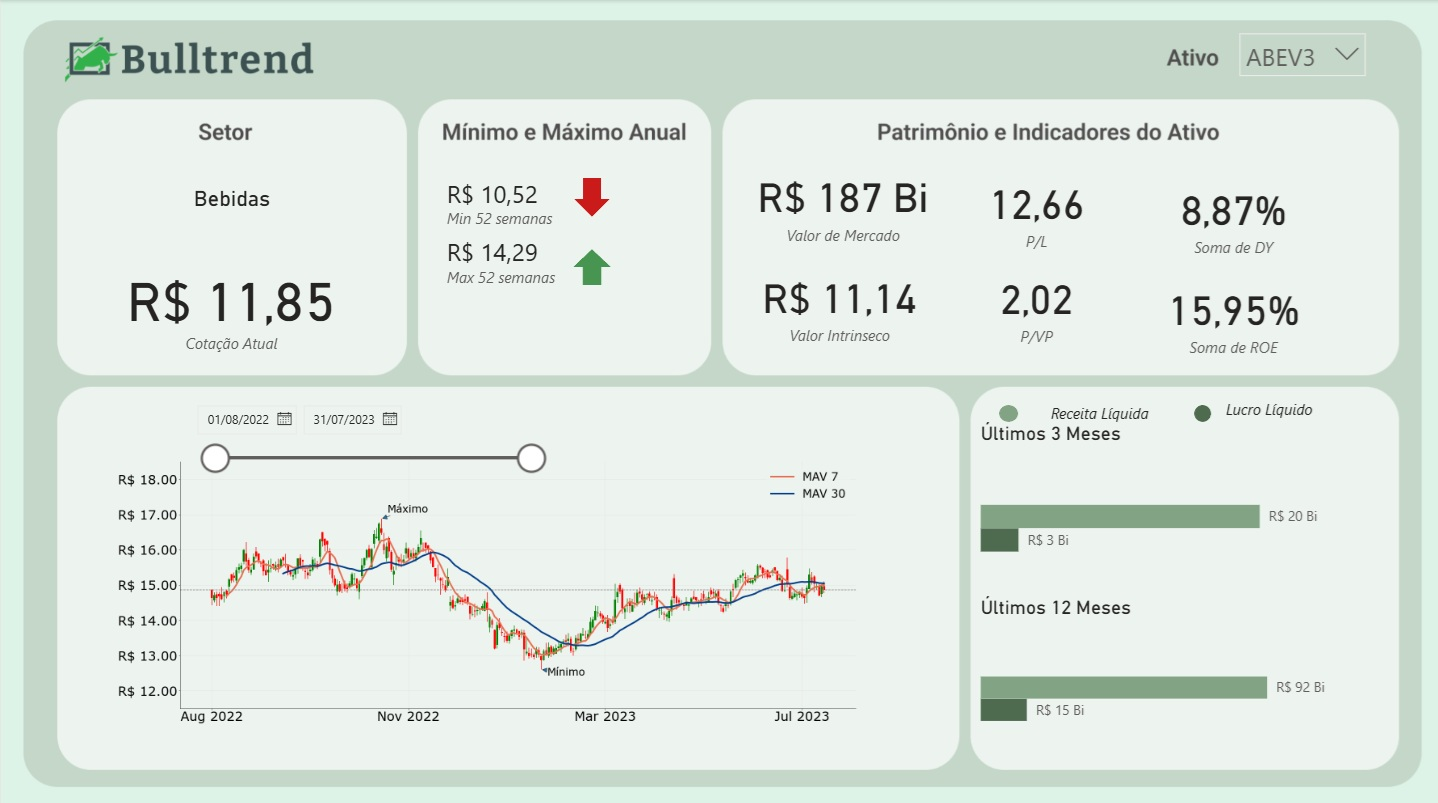

What the dashboard file says about the page in this screenshot:
{"tool":"powerbi","page":{"name":"Página 1","canvas":[1280,720],"ordinal":1},"visuals":[{"type":"slicer","fields":{"Values":["indicadores.Ativo"]},"box":[0,0,243.9,68.9],"z":0},{"type":"card","fields":{"Values":["Min(indicadores.Setor)"]},"box":[243.9,3,831.5,106.8],"z":1000},{"type":"card","fields":{"Values":["Sum(indicadores.Cotacao)"]},"box":[0,109.9,243.9,150.2],"z":2000},{"type":"multiRowCard","fields":{"Values":["indicadores.Min_52_sem","indicadores.Max_52_sem"]},"box":[0,260,343.7,56.4],"z":3000},{"type":"card","fields":{"Values":["Sum(indicadores.Valor_de_mercado)"]},"box":[0,359.8,343.7,149.2],"z":4000},{"type":"card","fields":{"Values":["Sum(indicadores.Valor_Intrinseco)"]},"box":[0,530,344,150],"z":5000},{"type":"card","fields":{"Values":["Sum(indicadores.P/L)"]},"box":[343.7,109.9,316.5,150.2],"z":6000},{"type":"card","fields":{"Values":["Sum(indicadores.P/VP)"]},"box":[343.7,260,316.5,150.2],"z":7000},{"type":"card","fields":{"Values":["Sum(indicadores.DY)"]},"box":[353.8,410.2,296.3,150.2],"z":8000},{"type":"card","fields":{"Values":["Sum(indicadores.ROE)"]},"box":[343.7,530.1,316.5,150.2],"z":9000},{"type":"clusteredBarChart","title":"Últimos 3 Meses","fields":{"Y":["Sum(indicadores.Receita_Liquida_3m)","Sum(indicadores.Lucro_Liquido_3m)"]},"box":[672.5,185.4,594.6,238.2],"z":10000},{"type":"clusteredBarChart","title":"Últimos 12 Meses","fields":{"Y":["Sum(indicadores.Receita_Liquida_12m)","Sum(indicadores.Lucro_Liquido_12m)"]},"box":[660.2,445.5,619.8,212.7],"z":11000},{"type":"textbox","box":[767,146.1,116.9,28.2],"z":12000},{"type":"textbox","box":[943.9,144.2,138.8,32.2],"z":13000},{"type":"shape","box":[741.5,152.2,15.2,15.2],"z":14000},{"type":"shape","box":[912.5,150.4,15,15],"z":15000}]}

Visuals, with their boxes in screenshot pixels (x1, y1, x2, y2), scaled from the page's 1280x720 canvas onto the 1438x803 screenshot:
slicer - indicadores.Ativo: (x1=0, y1=0, x2=274, y2=77)
card - Min(indicadores.Setor): (x1=274, y1=3, x2=1208, y2=122)
card - Sum(indicadores.Cotacao): (x1=0, y1=123, x2=274, y2=290)
multiRowCard - indicadores.Min_52_sem x indicadores.Max_52_sem: (x1=0, y1=290, x2=386, y2=353)
card - Sum(indicadores.Valor_de_mercado): (x1=0, y1=401, x2=386, y2=568)
card - Sum(indicadores.Valor_Intrinseco): (x1=0, y1=591, x2=386, y2=758)
card - Sum(indicadores.P/L): (x1=386, y1=123, x2=742, y2=290)
card - Sum(indicadores.P/VP): (x1=386, y1=290, x2=742, y2=457)
card - Sum(indicadores.DY): (x1=397, y1=457, x2=730, y2=625)
card - Sum(indicadores.ROE): (x1=386, y1=591, x2=742, y2=759)
"Últimos 3 Meses" clusteredBarChart: (x1=756, y1=207, x2=1424, y2=472)
"Últimos 12 Meses" clusteredBarChart: (x1=742, y1=497, x2=1437, y2=734)
textbox: (x1=862, y1=163, x2=993, y2=194)
textbox: (x1=1060, y1=161, x2=1216, y2=197)
shape: (x1=833, y1=170, x2=850, y2=187)
shape: (x1=1025, y1=168, x2=1042, y2=184)
